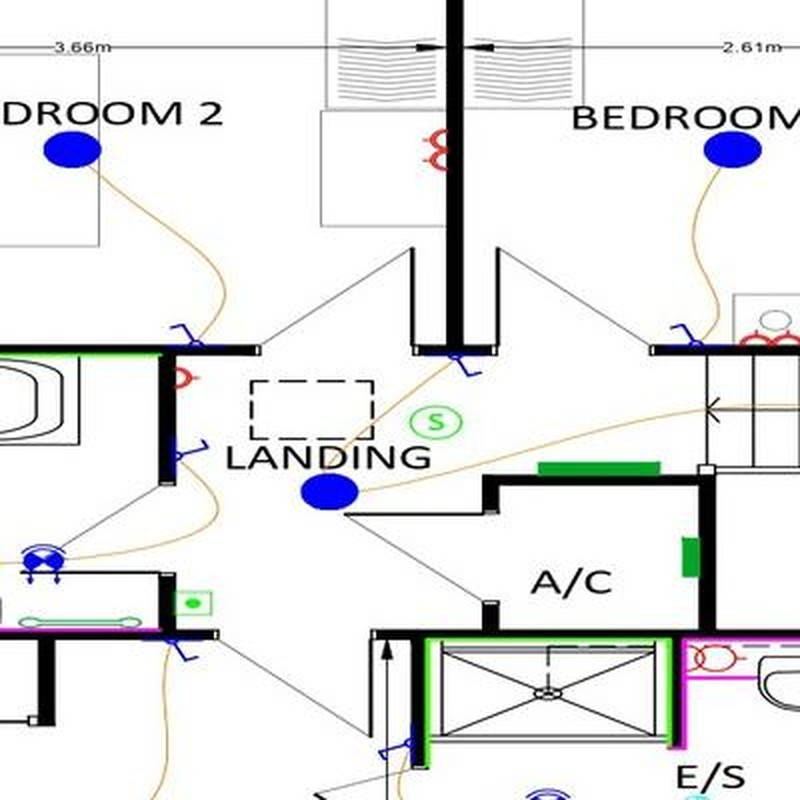Double Socket: (420, 128, 446, 170), (740, 329, 800, 344)
Full Height Tiling: (423, 640, 674, 770)
Light Switch: (176, 439, 207, 465), (378, 738, 410, 762), (451, 356, 484, 379), (165, 641, 201, 662), (170, 324, 204, 344), (669, 324, 703, 344)
Low Energy Downlighter: (21, 543, 67, 586)
Low Energy Pendant Light: (42, 130, 104, 170), (300, 473, 360, 511), (703, 132, 763, 169)
Mains Wired Smoke Detector: (409, 405, 463, 438)
Programmable Room Thermostat: (175, 591, 214, 617)
Radiator: (537, 461, 658, 474), (681, 540, 699, 577)
Shaver Socket: (685, 643, 747, 678)
Single Socket: (176, 367, 200, 389)
